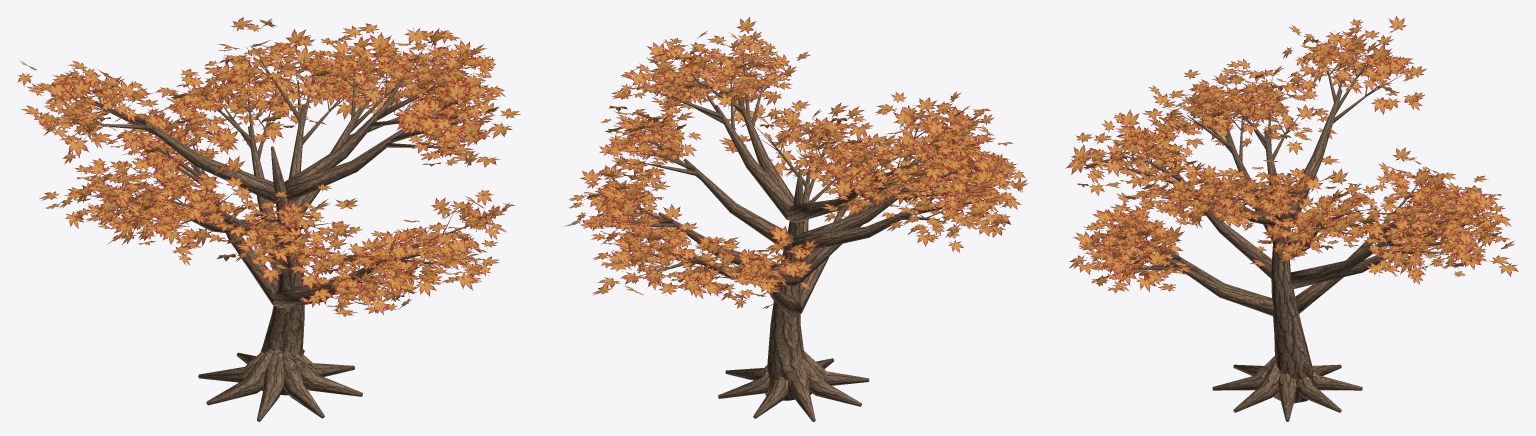
The model's file is MaplePolish_2_Far.fbx.
The picture shows the model from 3 angles, left to right: view 1: azimuth 30°, elevation 25°; view 2: azimuth 150°, elevation 25°; view 3: azimuth 270°, elevation 25°; orthographic projection. The views are drawn at different scales.
Visible parts, largest first — view 1: MaplePolish_2_Far_Leaves, MaplePolish_2_Far_Wood; view 2: MaplePolish_2_Far_Leaves, MaplePolish_2_Far_Wood; view 3: MaplePolish_2_Far_Leaves, MaplePolish_2_Far_Wood.
Boxes of the visible parts, <box> form: MaplePolish_2_Far_Leaves: <box>17,17,520,316</box>; MaplePolish_2_Far_Wood: <box>51,39,489,421</box>; MaplePolish_2_Far_Leaves: <box>564,17,1028,308</box>; MaplePolish_2_Far_Wood: <box>597,54,996,421</box>; MaplePolish_2_Far_Leaves: <box>1065,16,1518,293</box>; MaplePolish_2_Far_Wood: <box>1088,44,1494,421</box>.
Size of the model in its own units: 11.96 by 8.66 by 12.33.
